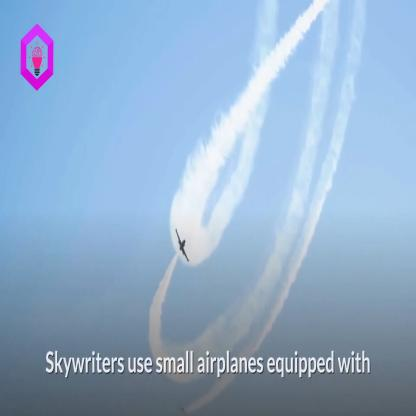plane: (173, 221, 194, 266)
